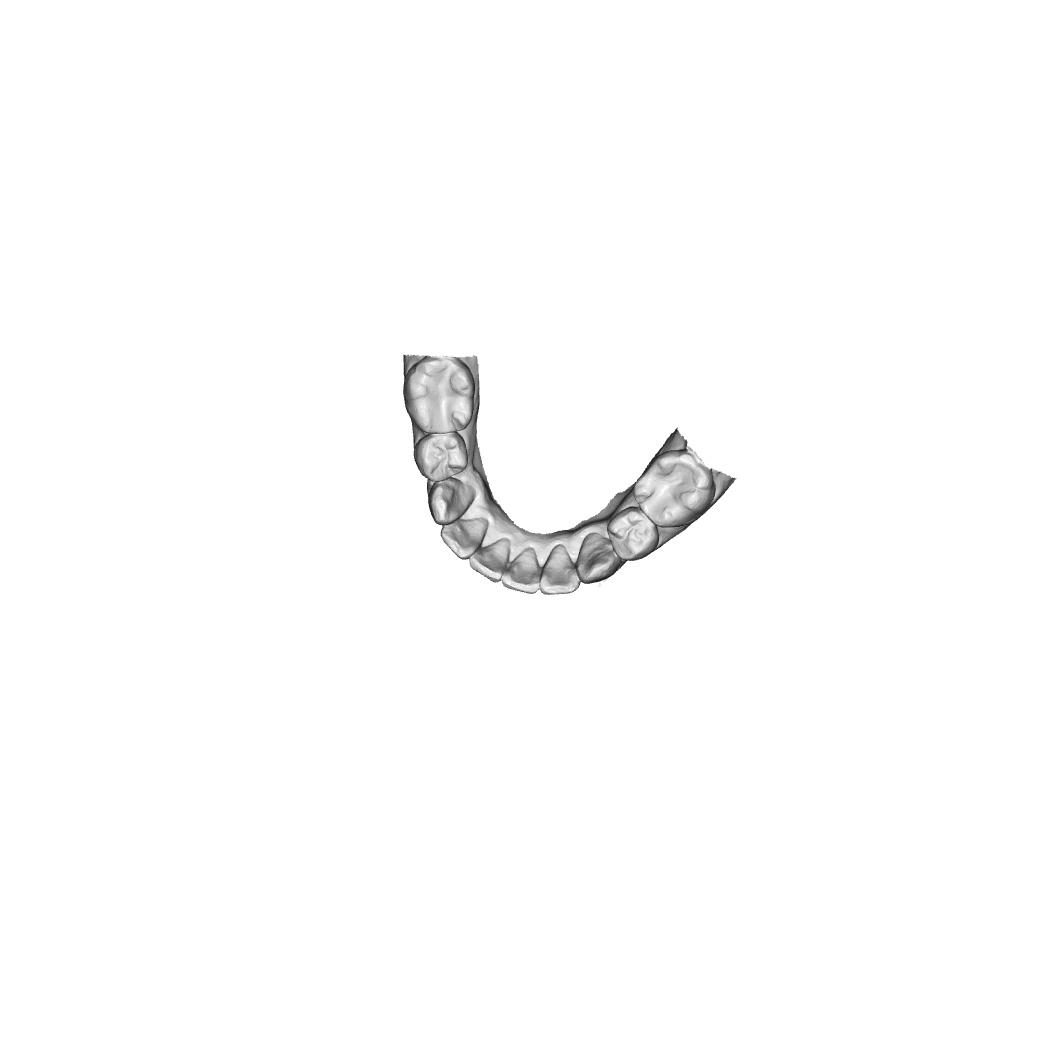canine: (575, 532, 621, 585), (428, 476, 476, 526)
incisor: (539, 544, 580, 596), (440, 518, 489, 561), (468, 536, 511, 584), (501, 546, 541, 595)
molar: (632, 448, 716, 528), (403, 355, 476, 435)
premolar: (606, 506, 660, 562), (413, 431, 469, 482)
